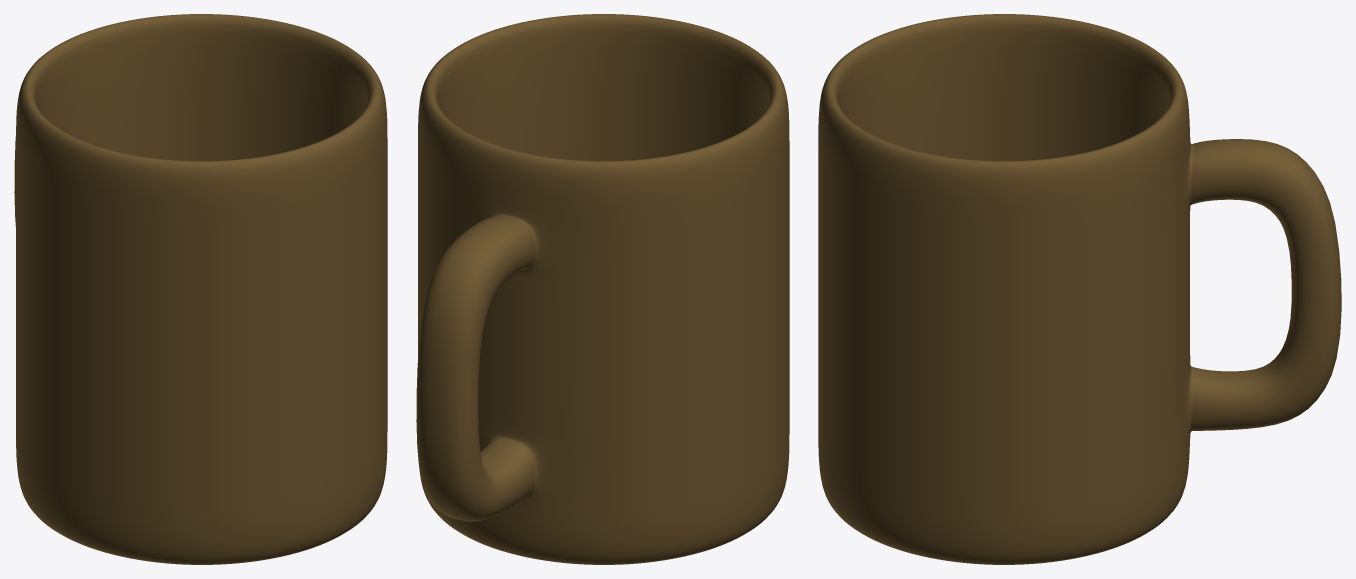
The model's file is mug.FBX.
3 renders of one model, left to right at view 1: azimuth 30°, elevation 25°; view 2: azimuth 150°, elevation 25°; view 3: azimuth 270°, elevation 25°, orthographic.
Visible parts, largest first — view 1: Cylinder01; view 2: Cylinder01; view 3: Cylinder01.
Boxes of the visible parts, left/top/right/bottom form: Cylinder01: left=14, top=14, right=387, bottom=564; Cylinder01: left=416, top=14, right=789, bottom=564; Cylinder01: left=818, top=14, right=1341, bottom=564.
Size of the model in its own units: 23.5 by 28.32 by 33.11.
